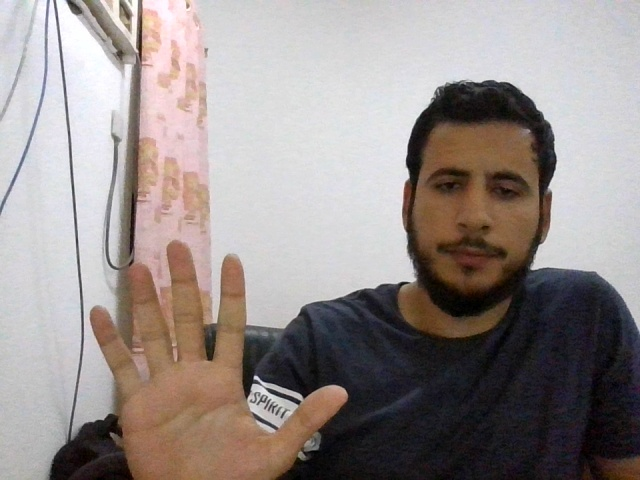Five: (90, 240, 348, 480)
